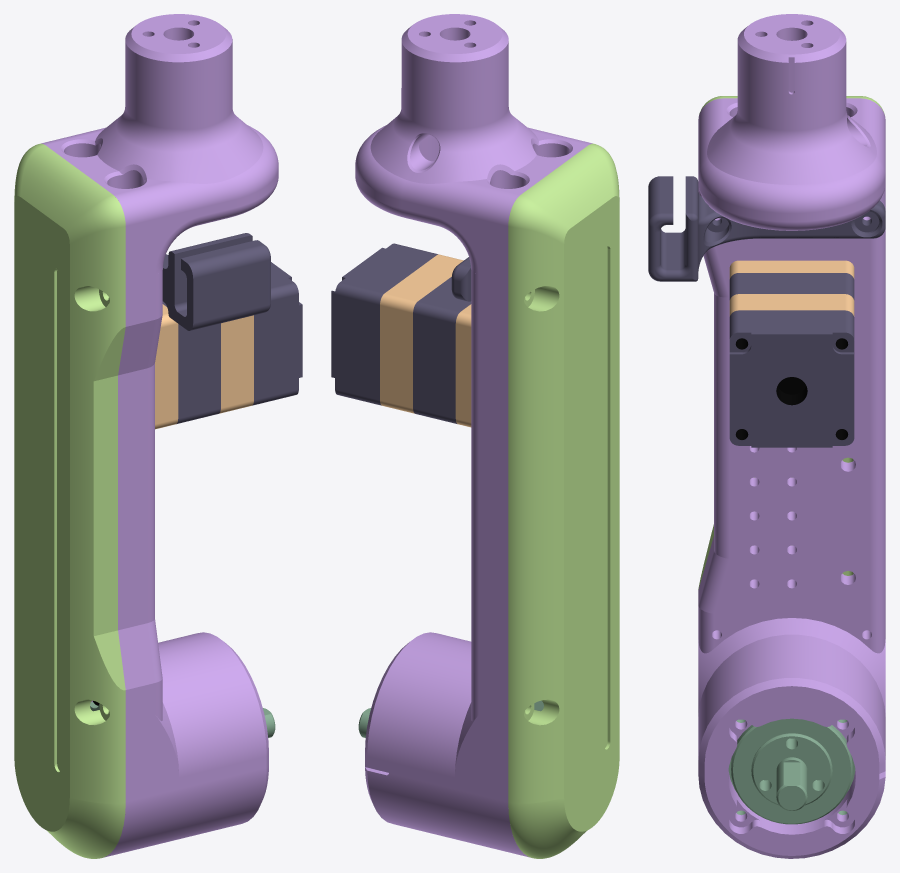
Rendered from Joint_4.dae.
3 views of the same model, side by side, from view 1: azimuth 30°, elevation 25°; view 2: azimuth 150°, elevation 25°; view 3: azimuth 270°, elevation 25° (orthographic).
Parts seen in each view (by area): view 1: Joint_4; view 2: Joint_4; view 3: Joint_4.
Boxes of the visible parts, x1=… form: Joint_4: x1=14, y1=14, x2=302, y2=858; Joint_4: x1=331, y1=14, x2=619, y2=858; Joint_4: x1=648, y1=14, x2=885, y2=858.
Bounding box in the file's own units: 0.043 × 0.038 × 0.142.
